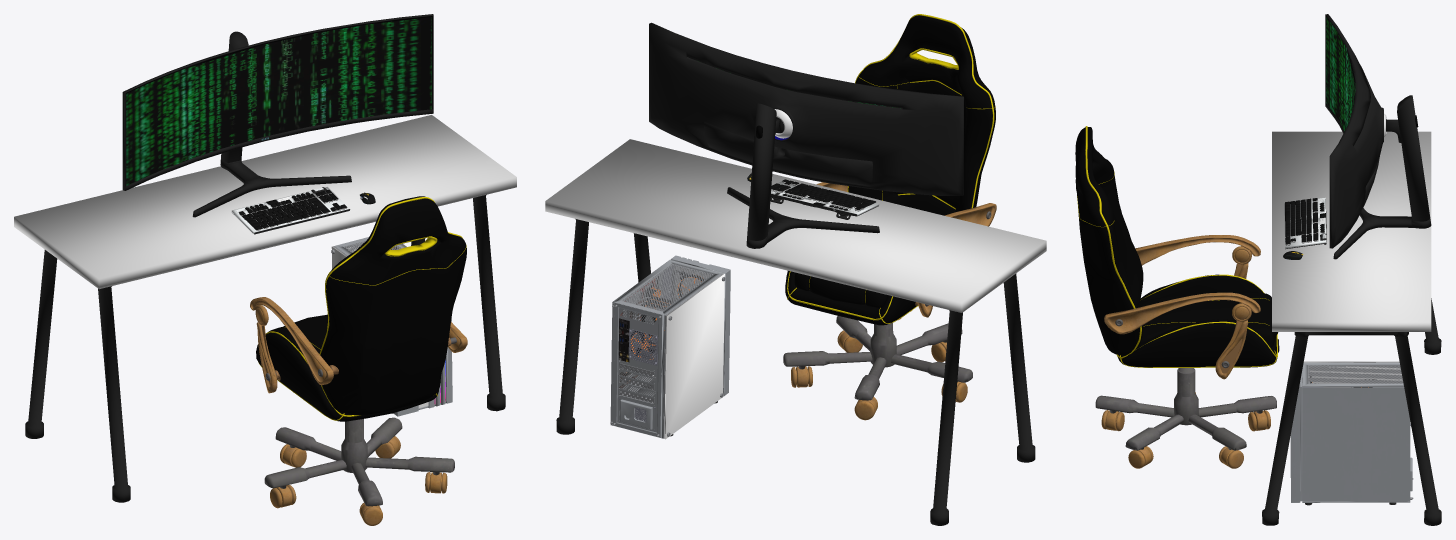
Rendered from setup.glb.
The picture shows the model from 3 angles, left to right: view 1: azimuth 30°, elevation 25°; view 2: azimuth 150°, elevation 25°; view 3: azimuth 270°, elevation 25°; orthographic projection. The views are drawn at different scales.
Visible parts, largest first — view 1: Study Table, Circle, Main Chair, Chair Base Rods, Arms, Circle.004, Tyres, Buttons, Part, Cube.001, Chair Base 2, Aluminium; view 2: Study Table, Circle, Main Chair, Cube.001, Logo, Circle.004, Chair Base Rods, Tyres, Part, Buttons, Arms, Chair Base 2; view 3: Study Table, Main Chair, Cube.001, Circle, Arms, Circle.004, Chair Base Rods, Tyres, Buttons, Part, Chair Base 2, Aluminium (+1 smaller).
Part boxes in pixels (<box>): Study Table: <box>14,115,516,502</box>; Circle: <box>122,14,433,190</box>; Main Chair: <box>256,196,466,421</box>; Chair Base Rods: <box>264,417,454,506</box>; Arms: <box>250,297,467,393</box>; Circle.004: <box>192,31,351,217</box>; Tyres: <box>270,436,447,525</box>; Buttons: <box>238,189,347,230</box>; Part: <box>258,197,466,420</box>; Cube.001: <box>331,237,452,416</box>; Chair Base 2: <box>341,419,367,472</box>; Aluminium: <box>231,187,350,233</box>; Study Table: <box>545,139,1046,525</box>; Circle: <box>649,22,963,195</box>; Main Chair: <box>785,15,995,325</box>; Cube.001: <box>610,255,730,438</box>; Logo: <box>664,181,864,439</box>; Circle.004: <box>727,103,879,248</box>; Chair Base Rods: <box>783,316,972,400</box>; Tyres: <box>791,330,967,420</box>; Part: <box>787,14,995,323</box>; Buttons: <box>771,179,875,210</box>; Arms: <box>816,182,996,317</box>; Chair Base 2: <box>870,323,896,367</box>; Study Table: <box>1262,131,1441,525</box>; Main Chair: <box>1075,127,1277,367</box>; Cube.001: <box>1290,362,1413,505</box>; Circle: <box>1325,14,1383,248</box>; Arms: <box>1104,235,1260,379</box>; Circle.004: <box>1333,95,1431,259</box>; Chair Base Rods: <box>1095,395,1276,450</box>; Tyres: <box>1101,392,1270,468</box>; Buttons: <box>1285,198,1325,244</box>; Part: <box>1077,126,1277,367</box>; Chair Base 2: <box>1174,368,1198,425</box>; Aluminium: <box>1284,197,1326,248</box>.
Bounding box in the file's own units: 1.59 × 1.38 × 1.29.
Materials: 49 (15 with a texture image).
